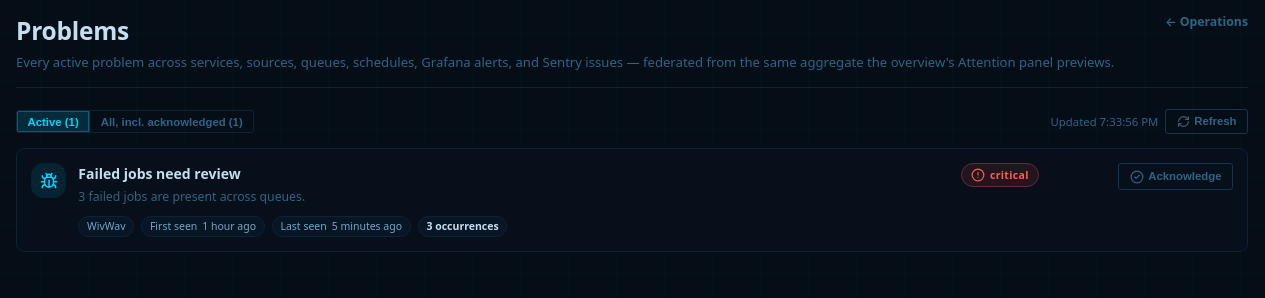
ProblemsClient (issue #892) › acknowledging a problem removes it from the default (active) view immediately
Expected: the link "Failed jobs need review" is shown, left=78, top=163, right=241, bottom=184
Click the button with aria-label "Acknowledge Failed jobs need review".
click(1176, 177)  # box left=1118, top=163, right=1233, bottom=190
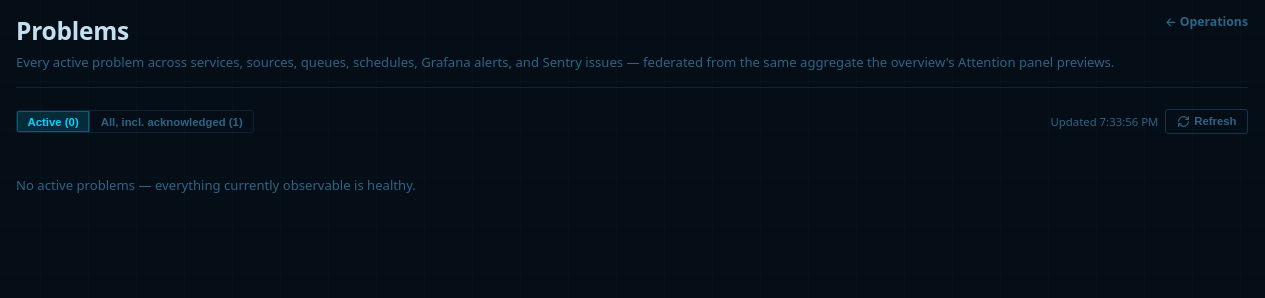
Expected: the link "Failed jobs need review" is gone
Note: Still visible (with history intact) under the "All" filter.
Click the button "All, incl. acknowledged (1)".
click(172, 122)  # box left=90, top=111, right=253, bottom=132
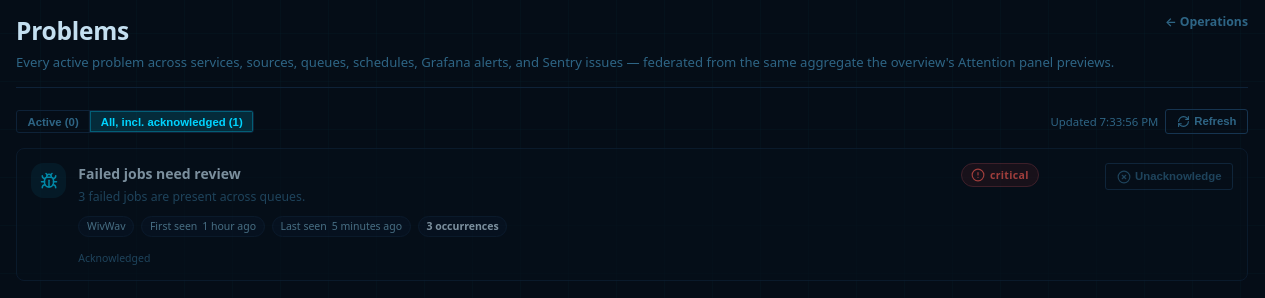
Expected: the link "Failed jobs need review" is shown, left=78, top=163, right=241, bottom=184
